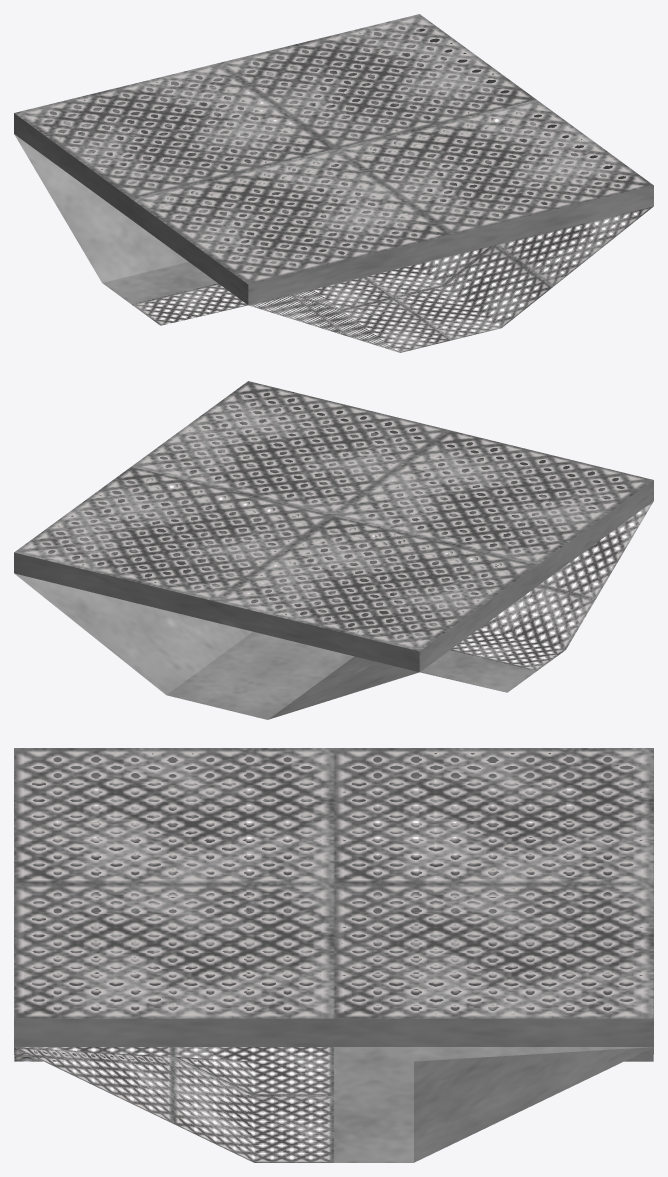
The model's file is Catwalk_02.fbx.
3 views of the same model, one above another, from view 1: azimuth 30°, elevation 25°; view 2: azimuth 150°, elevation 25°; view 3: azimuth 270°, elevation 25° (orthographic). The views are drawn at different scales.
Parts seen in each view (by area): view 1: Top, Bottom; view 2: Top, Bottom; view 3: Top, Bottom.
Boxes of the visible parts, <box> form: Top: <box>14,14,653,305</box>; Bottom: <box>14,125,653,352</box>; Top: <box>14,381,653,672</box>; Bottom: <box>14,491,653,719</box>; Top: <box>14,748,653,1046</box>; Bottom: <box>14,805,653,1162</box>.
Bounding box in the file's own units: 8.01 × 1.99 × 8.01.
